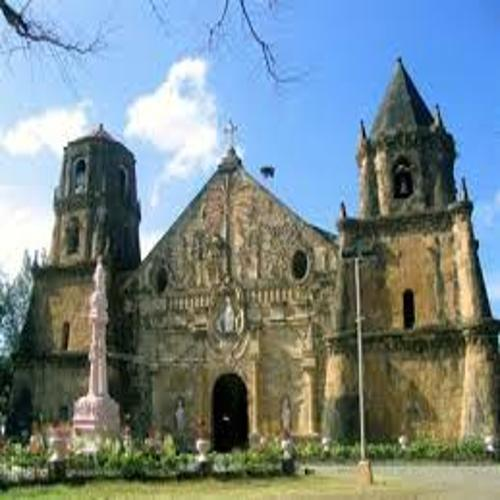Miagao Church: (30, 54, 494, 456)
